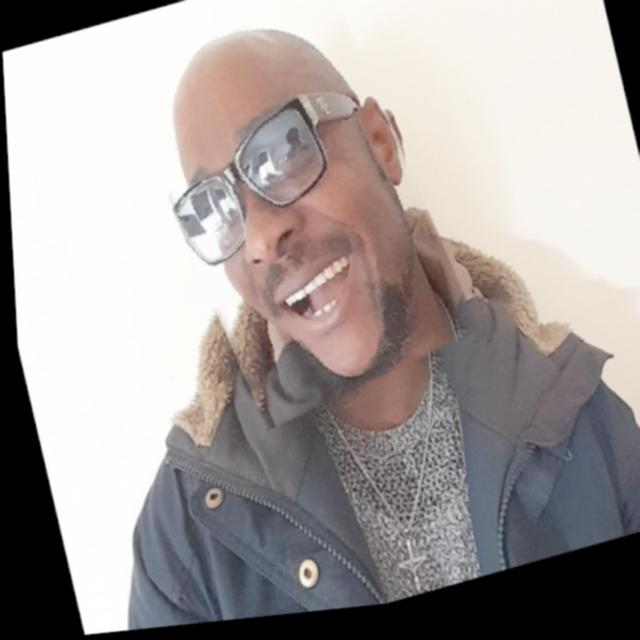happy: (124, 0, 469, 445)
